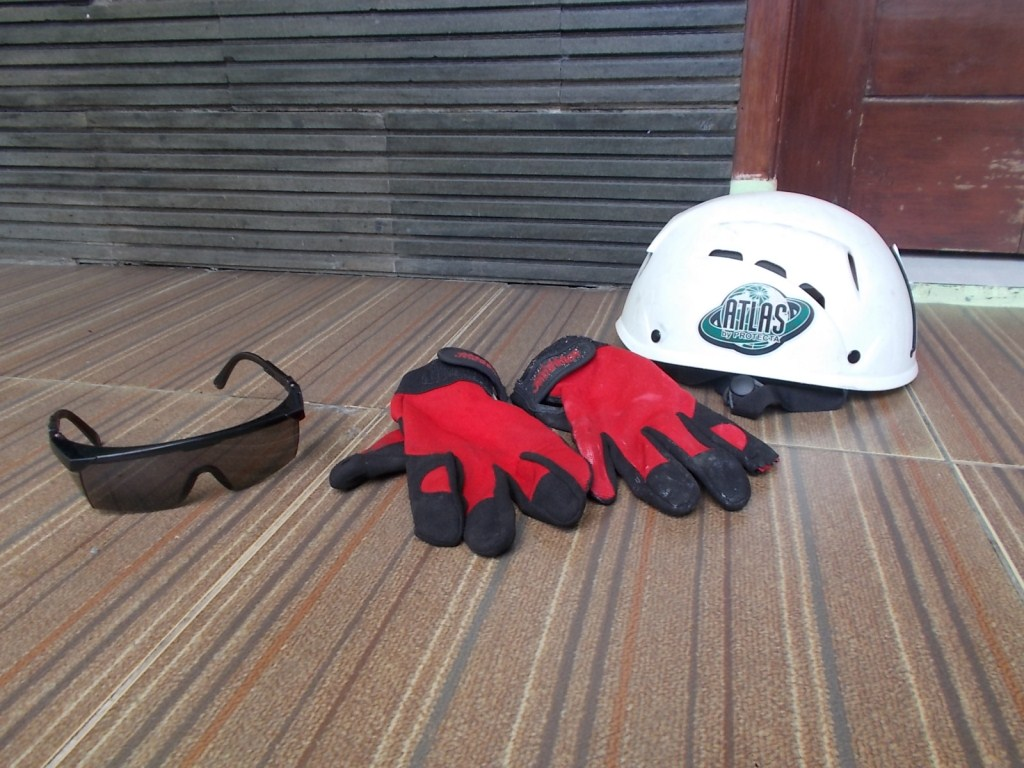HELM: (614, 192, 917, 379)
